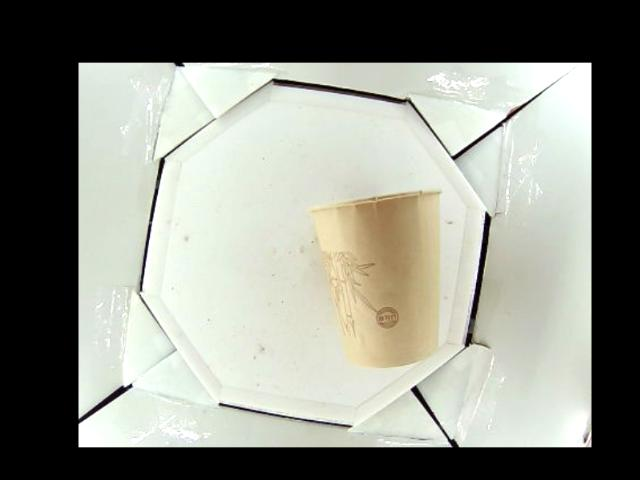Cup: (311, 189, 442, 367)
